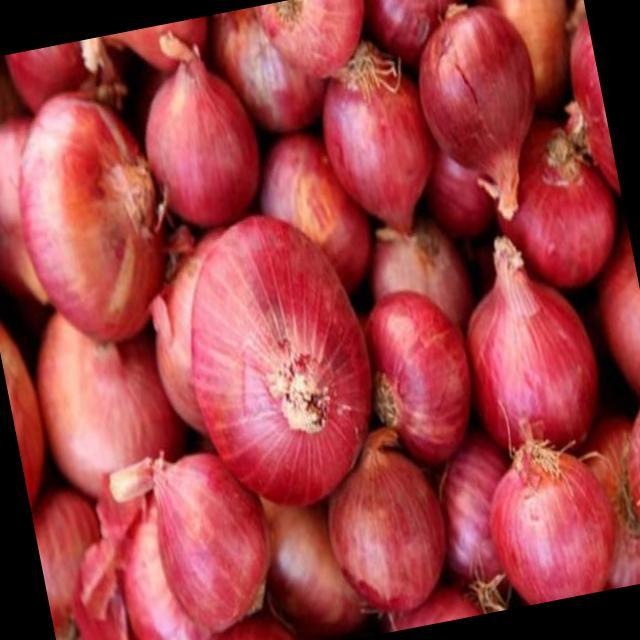ONIONS: (166, 202, 388, 500), (1, 74, 174, 326), (14, 304, 186, 526), (456, 240, 608, 448), (123, 26, 279, 208), (139, 445, 280, 625), (408, 0, 547, 181), (310, 38, 434, 232), (325, 436, 448, 601), (482, 442, 616, 592), (364, 290, 486, 446), (258, 0, 374, 81), (594, 236, 640, 382), (616, 390, 640, 572)
